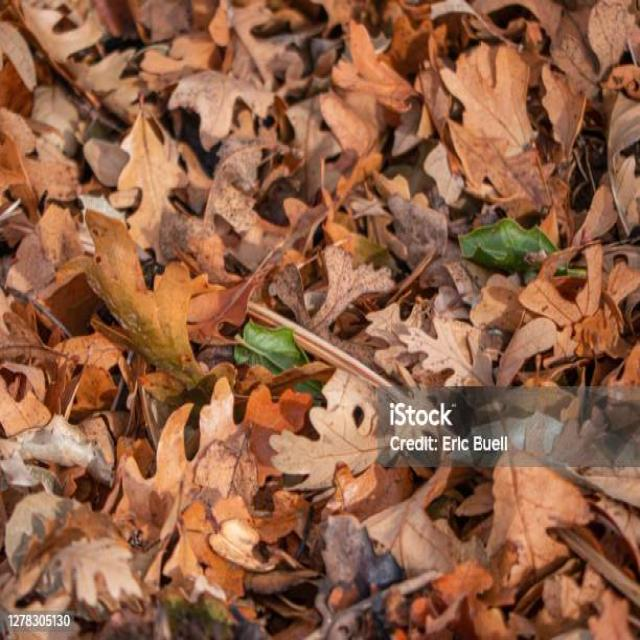Organik: (5, 1, 368, 638), (374, 8, 619, 384), (383, 477, 623, 637)
